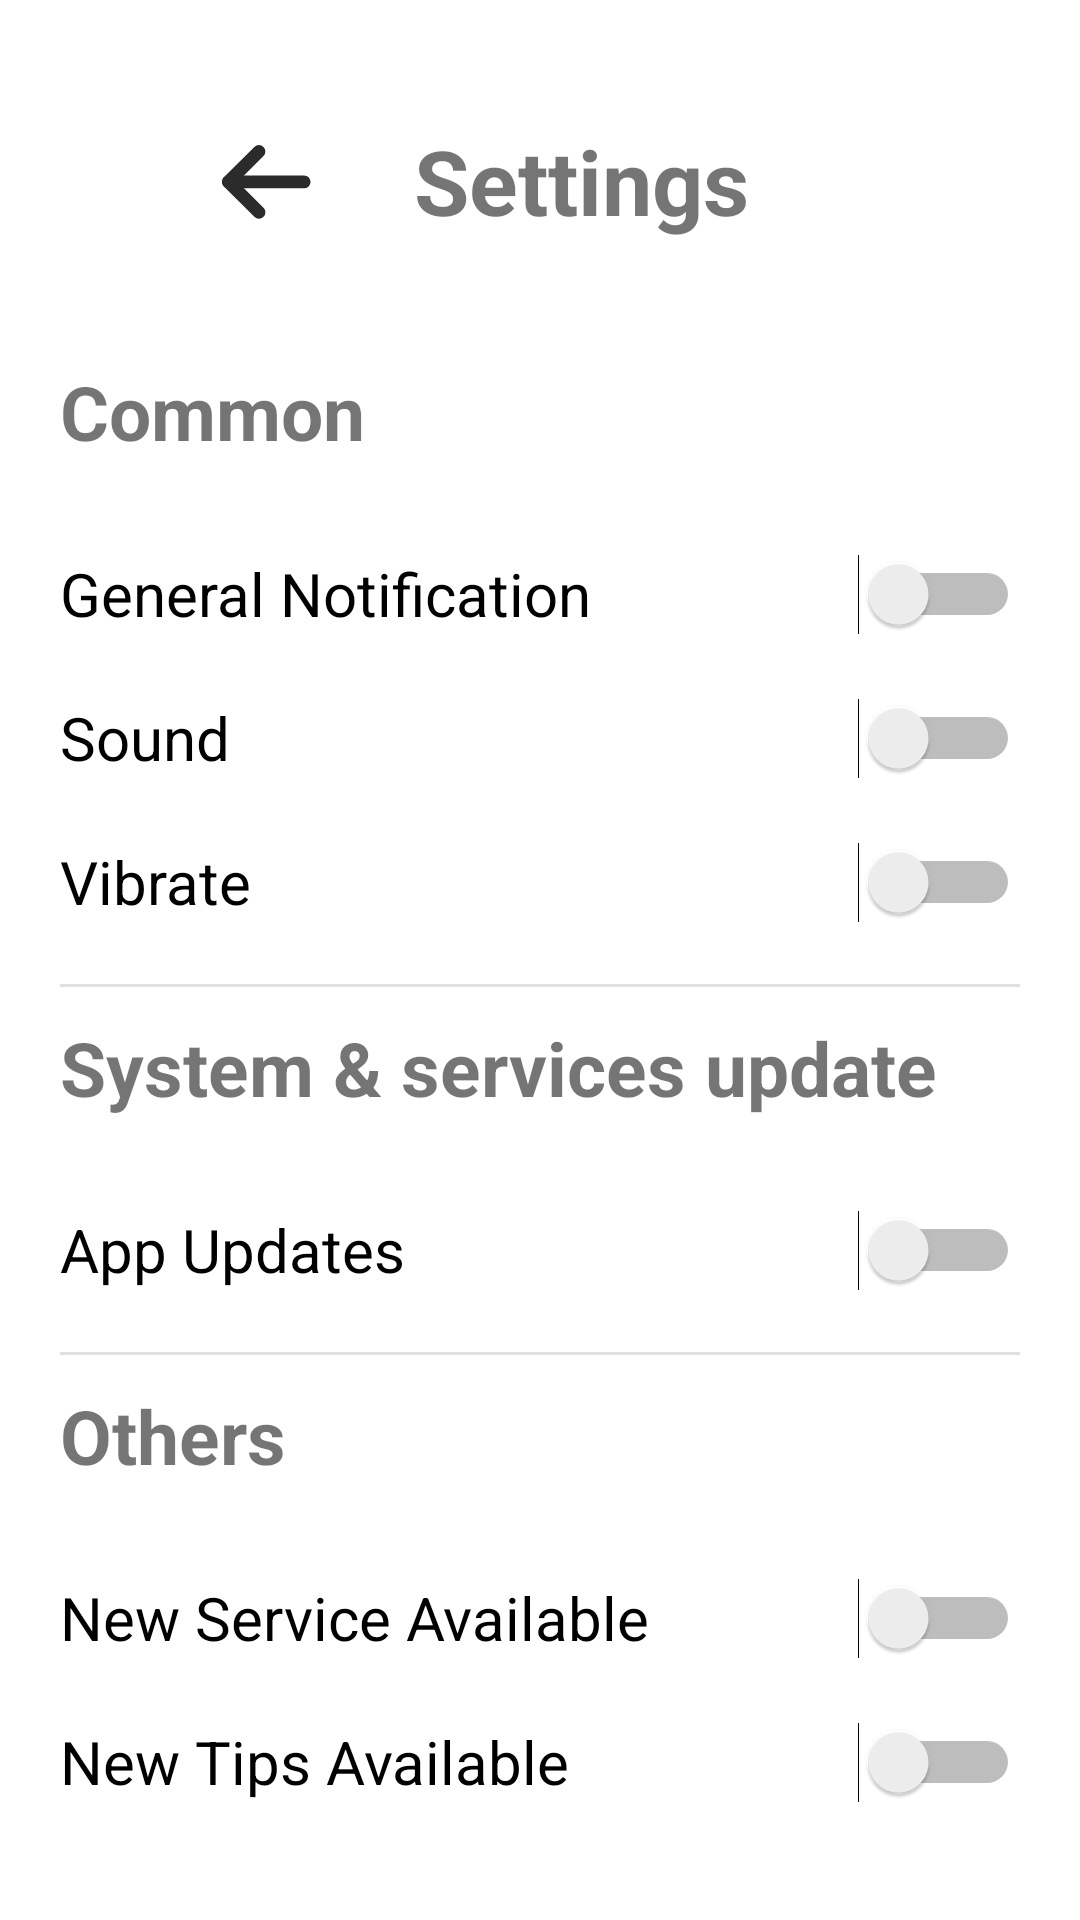

Point at icon controls on the screen. Image size 1080*1920, points as point (x, y).
return: point (266, 182)
